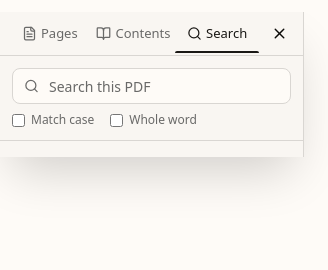
PdfReaderSidebar › does not search for a single character
Type "a" into the search field with placeholder "Search this PDF" at (152, 86), box [12,68,291,104]
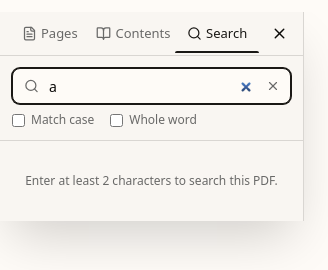
expect the text "Enter at least 2 characters" is shown: met, box [25,172,278,189]
